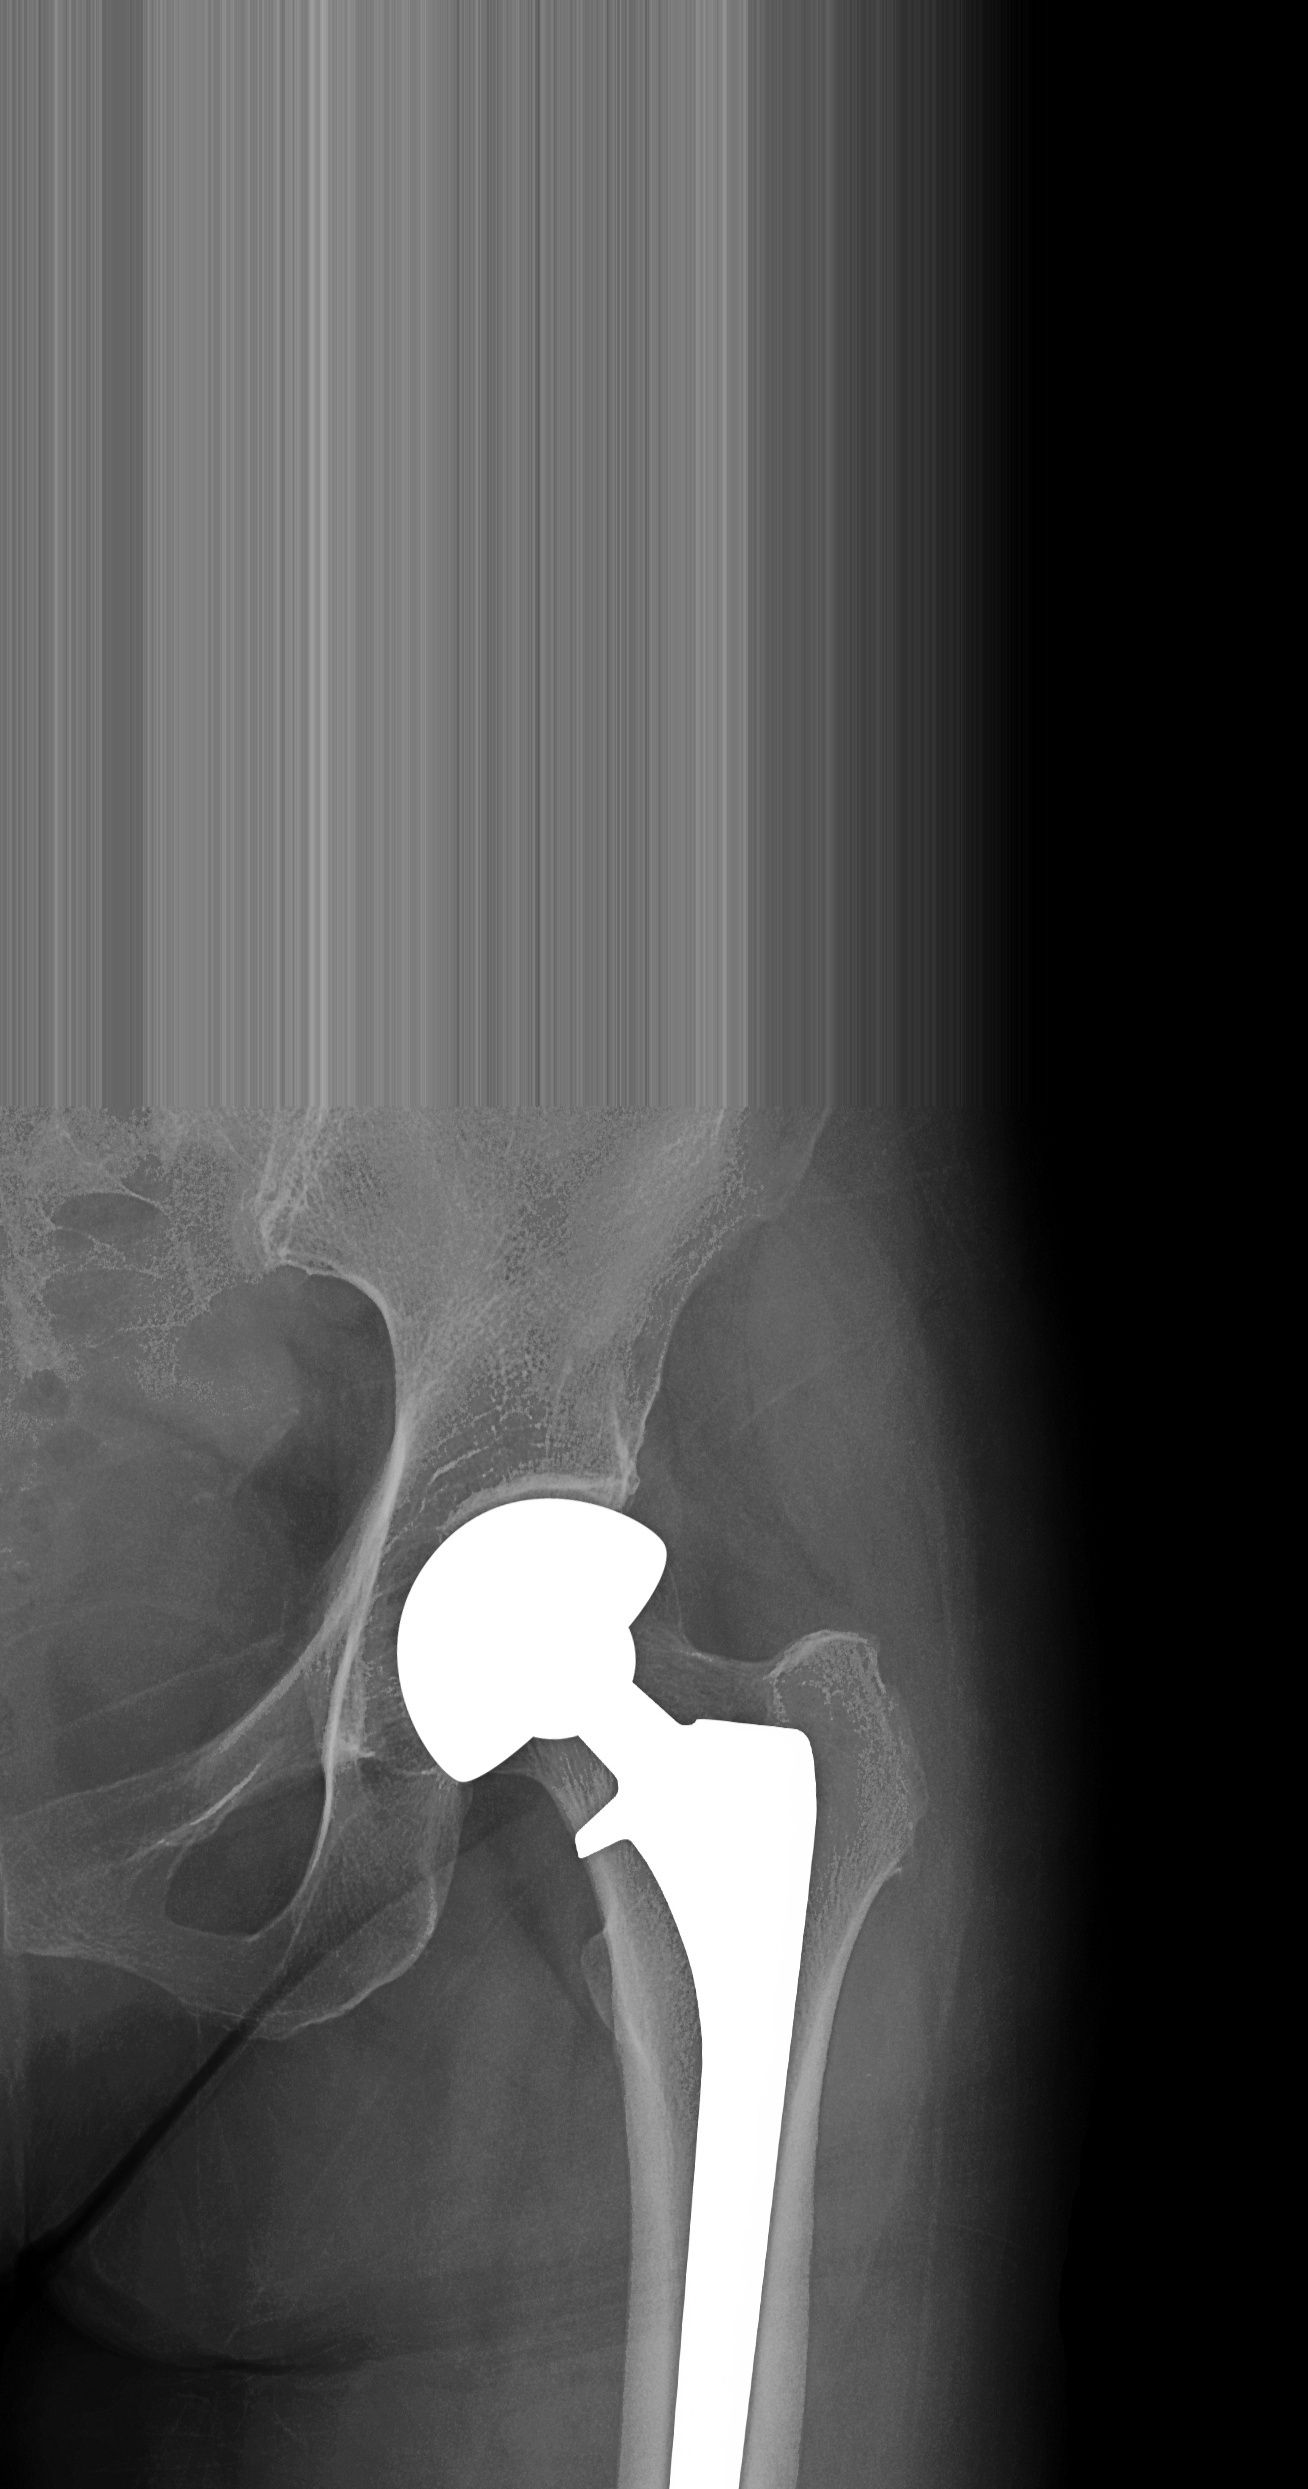Hip - APR - Zimmer: (295, 1422, 941, 2489)
